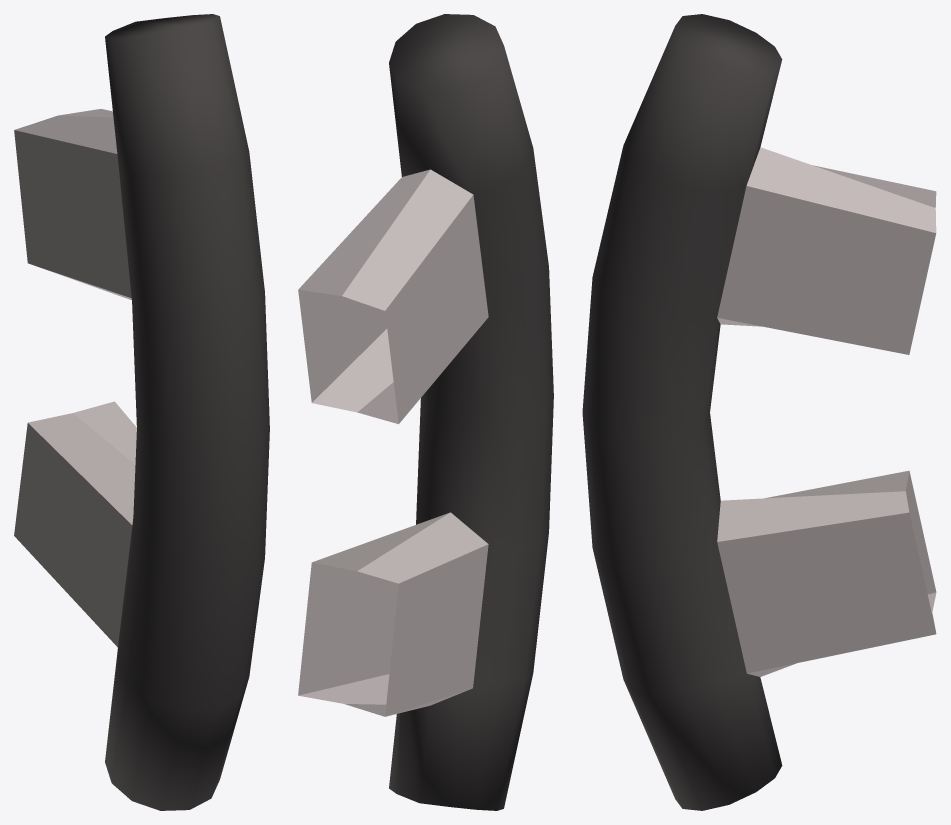
File: handle_R.fbx
3 renders of one model, left to right at view 1: azimuth 30°, elevation 25°; view 2: azimuth 150°, elevation 25°; view 3: azimuth 270°, elevation 25°, orthographic.
Visible parts, largest first — view 1: handles.001; view 2: handles.001; view 3: handles.001.
Boxes of the visible parts, left/top/right/bottom form: handles.001: left=14, top=14, right=269, bottom=810; handles.001: left=298, top=14, right=553, bottom=810; handles.001: left=582, top=14, right=936, bottom=810.
Size of the model in its own units: 4.78 by 31.05 by 12.88.
1 material, 1 textured.
